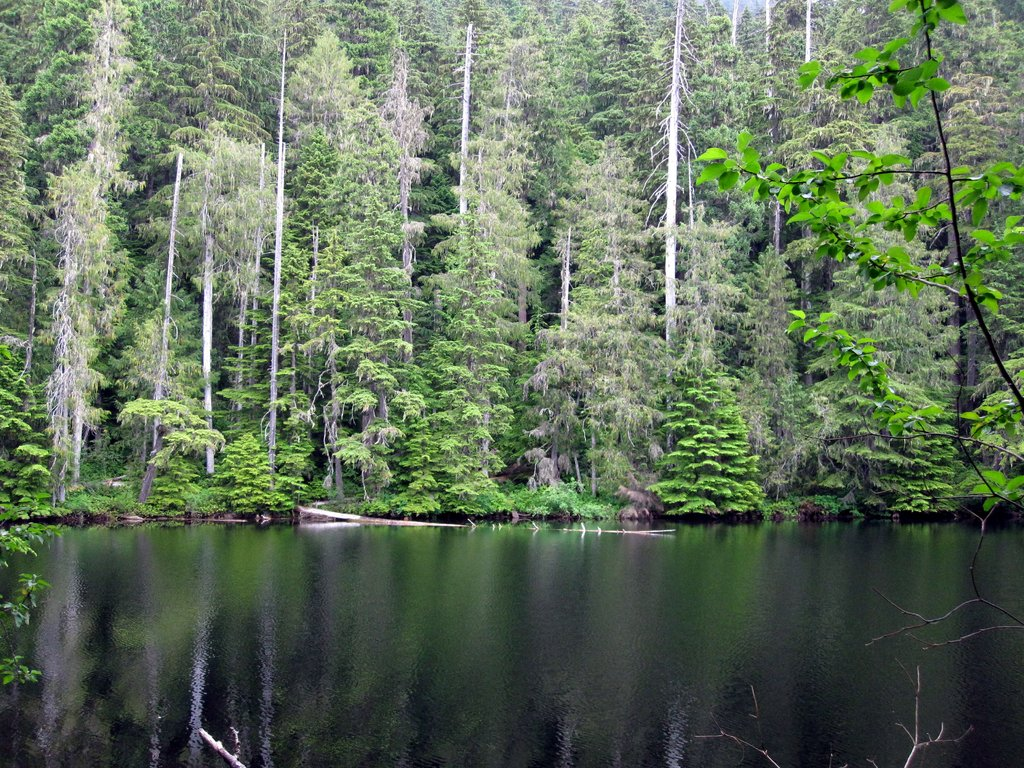Tree: (712, 0, 1022, 465), (1, 0, 276, 495), (424, 0, 617, 505), (274, 22, 423, 500), (620, 0, 710, 487)
